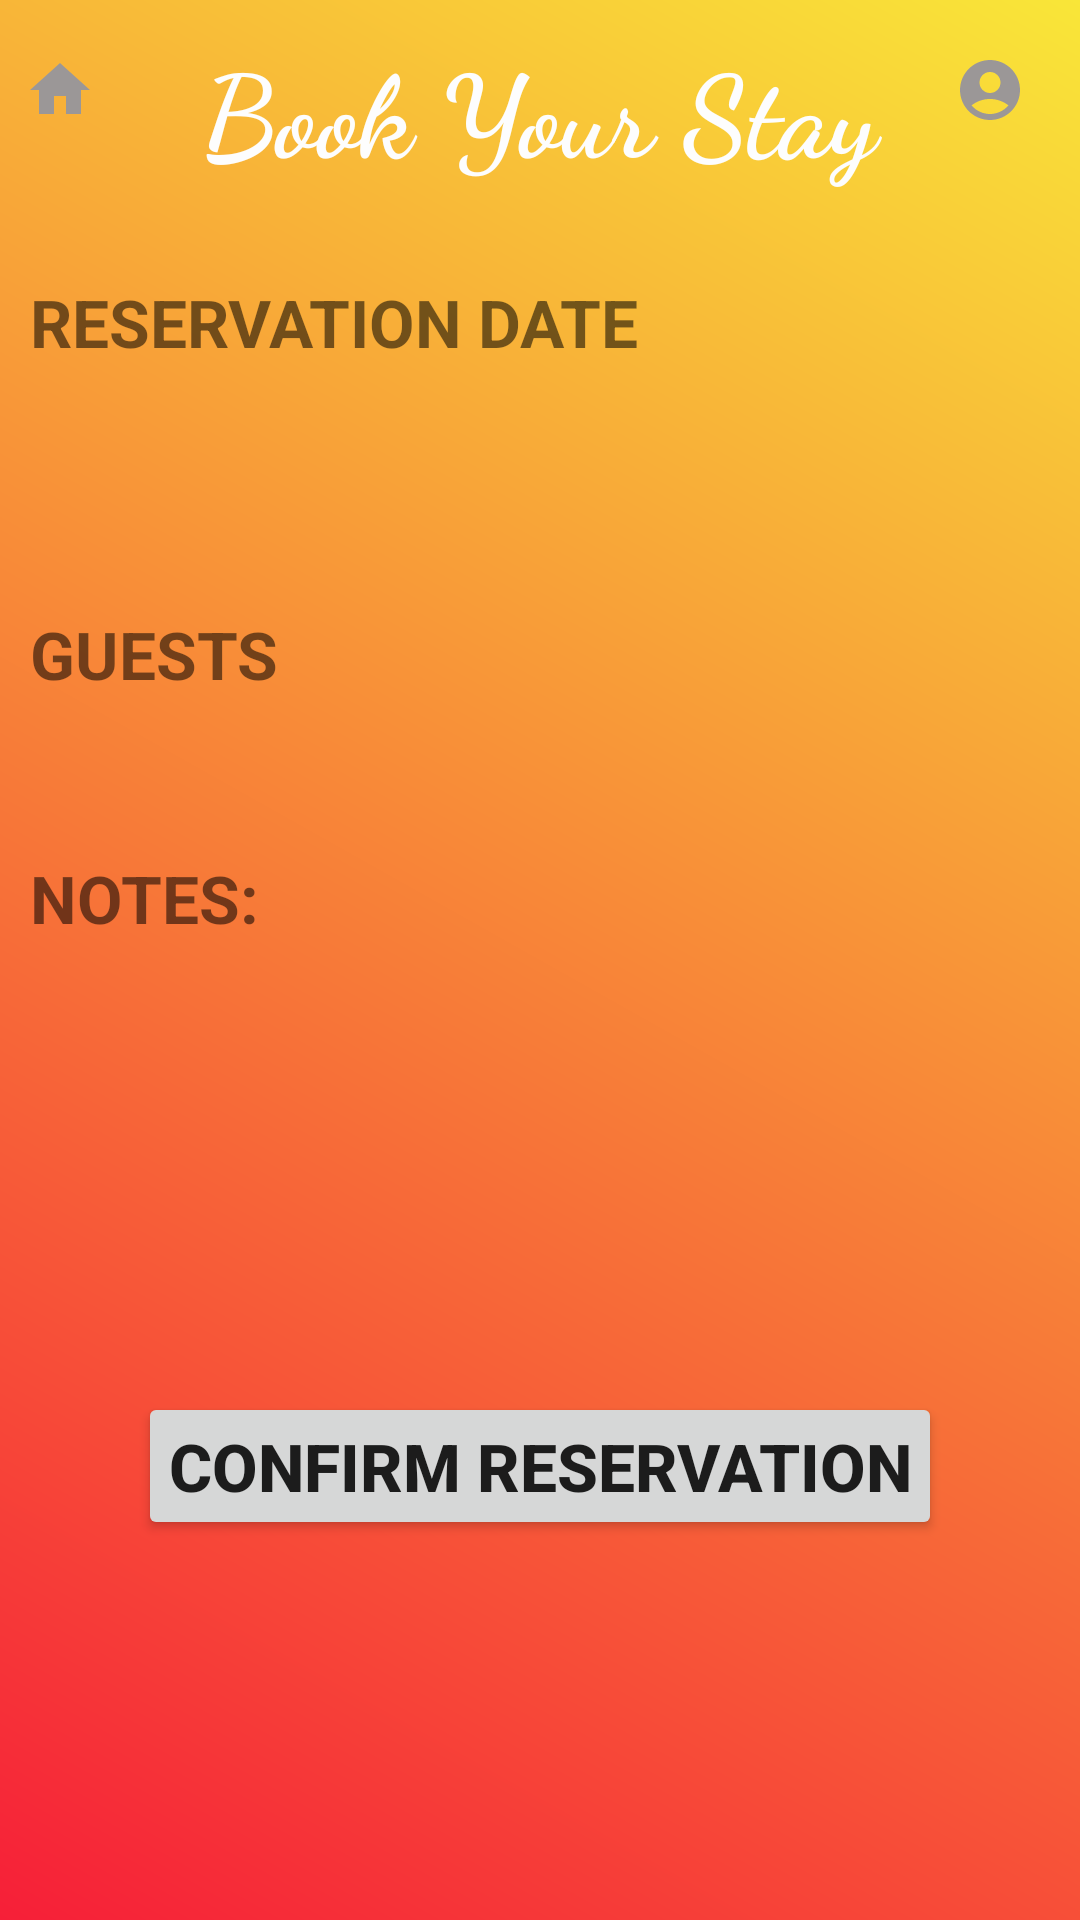

Locate icon controls on the screen. Image size 1080px×1920px, boxes as (x1, y1, x2, y2).
account: (960, 60, 1020, 120)
home: (30, 63, 90, 114)
